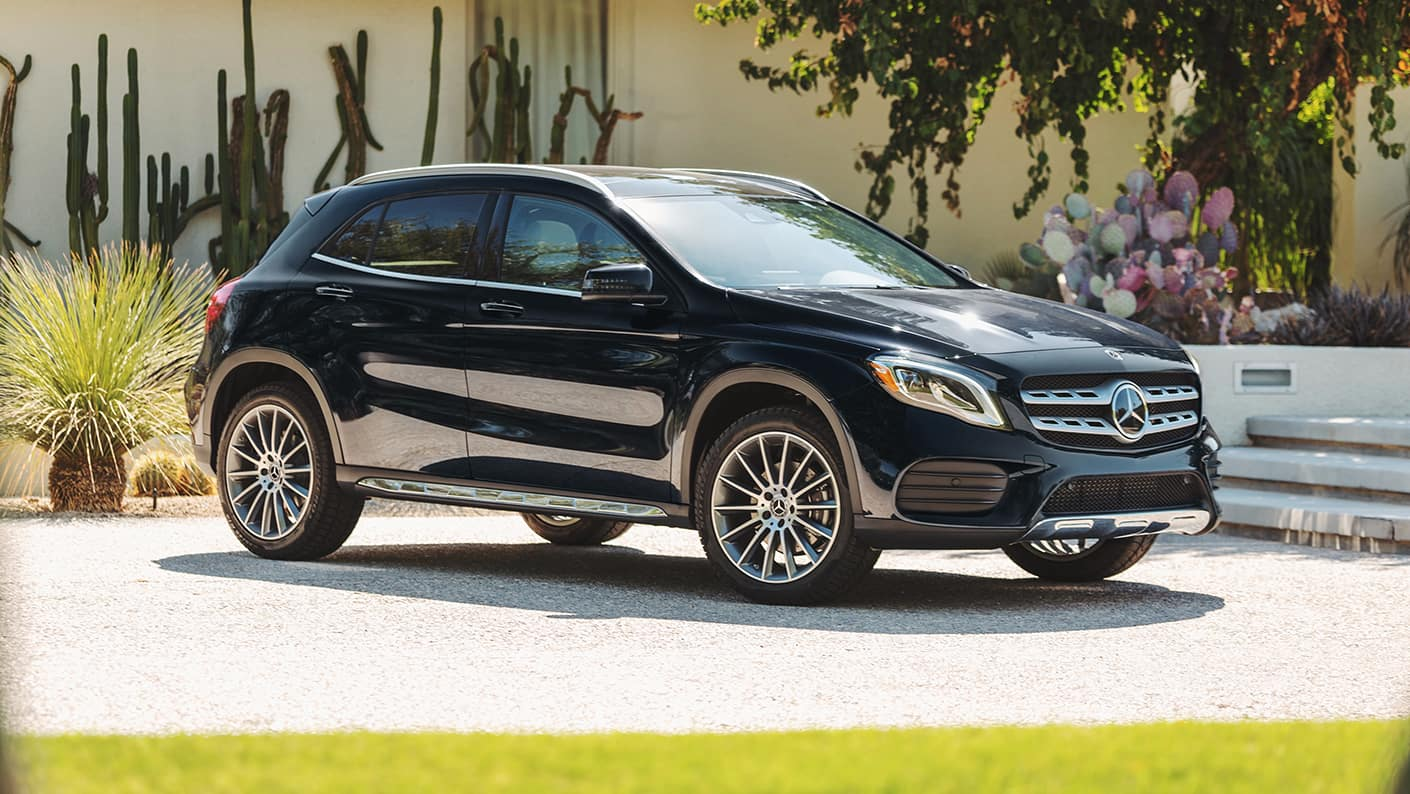car: (183, 163, 1224, 607)
